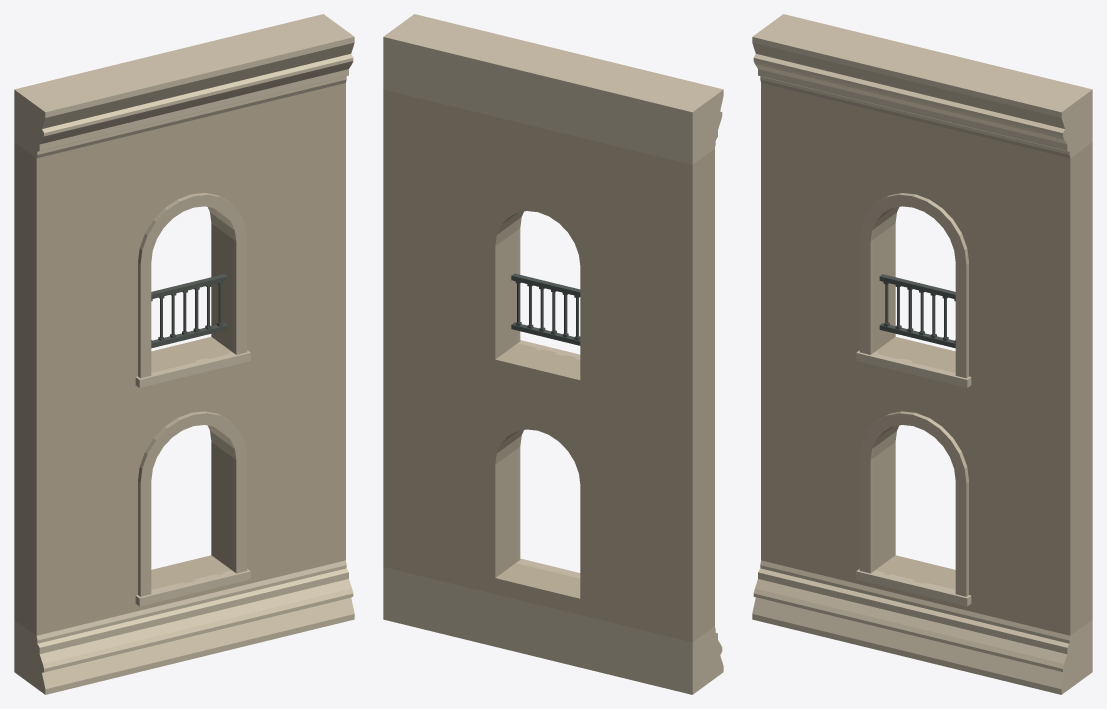
Rendered from T02_Double_Arch_Wall.glb.
3 renders of one model, left to right at view 1: azimuth 30°, elevation 25°; view 2: azimuth 150°, elevation 25°; view 3: azimuth 330°, elevation 25°, orthographic.
Visible parts, largest first — view 1: T02_Double_Arch_Wall; view 2: T02_Double_Arch_Wall; view 3: T02_Double_Arch_Wall.
Part boxes in pixels (left/top/right/bottom): T02_Double_Arch_Wall: left=14, top=14, right=354, bottom=694; T02_Double_Arch_Wall: left=383, top=14, right=723, bottom=694; T02_Double_Arch_Wall: left=752, top=14, right=1092, bottom=694.
Size of the model in its own units: 4 by 7.2 by 0.7.
